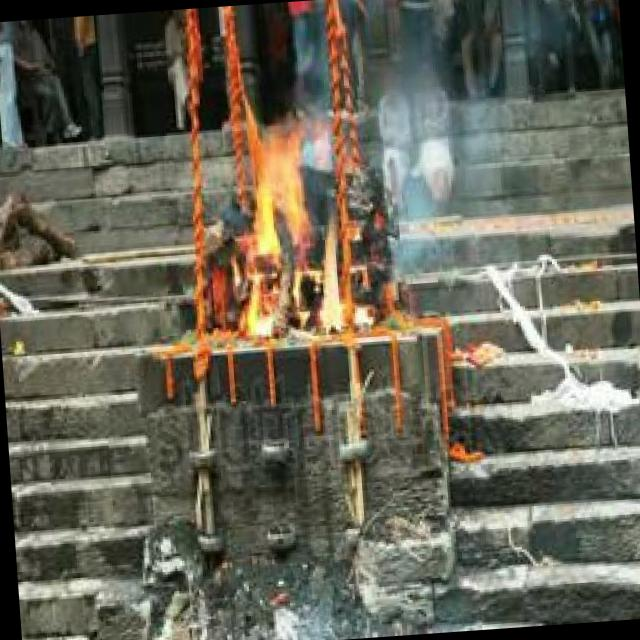Fire: (230, 94, 382, 336)
